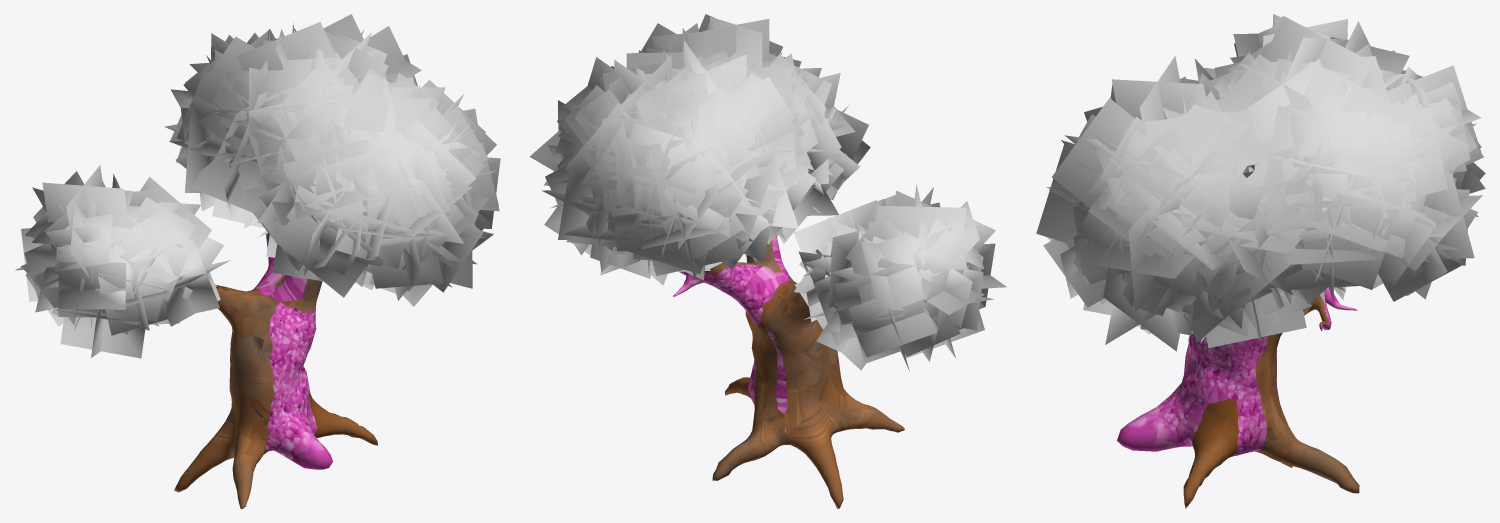
Rendered from SM_Tree_02.fbx.
3 views of the same model, side by side, from view 1: azimuth 30°, elevation 25°; view 2: azimuth 150°, elevation 25°; view 3: azimuth 270°, elevation 25° (orthographic). The views are drawn at different scales.
Visible parts, largest first — view 1: Leafs, Tree; view 2: Leafs, Tree; view 3: Leafs, Tree.
Part boxes in pixels (x1=…): Leafs: x1=15, y1=14, x2=500, y2=358; Tree: x1=174, y1=233, x2=377, y2=508; Leafs: x1=529, y1=14, x2=1006, y2=371; Tree: x1=673, y1=236, x2=904, y2=508; Leafs: x1=1036, y1=14, x2=1485, y2=351; Tree: x1=1117, y1=288, x2=1359, y2=508.
Bounding box in the file's own units: 4.67 × 3.7 × 4.69.
Materials: 2 (1 with a texture image).
